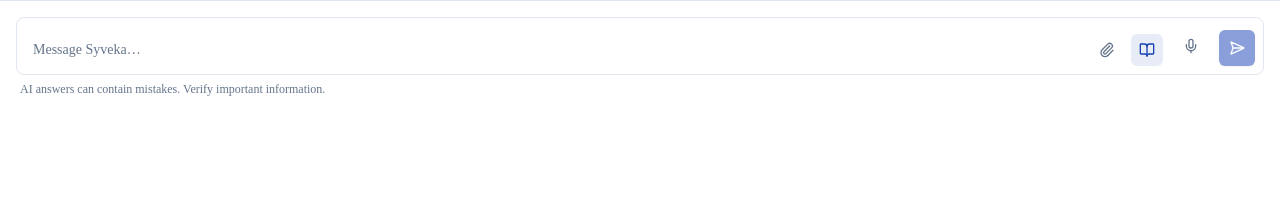
Scenario: Composer voice input › blocks Send (button and Enter) while recording, and Cancel keeps the draft
Type "typed draft" into the text box with placeholder "Message Syveka…". click: (554, 50)
box: [25, 34, 1083, 66]
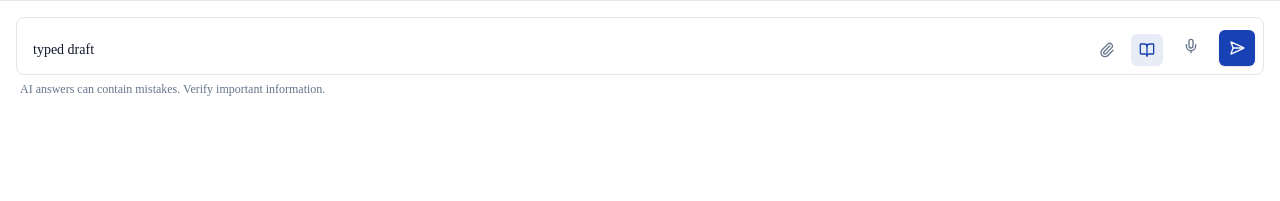
Click the button named "Record a voice message". click: (1191, 46)
box: [1171, 26, 1211, 66]
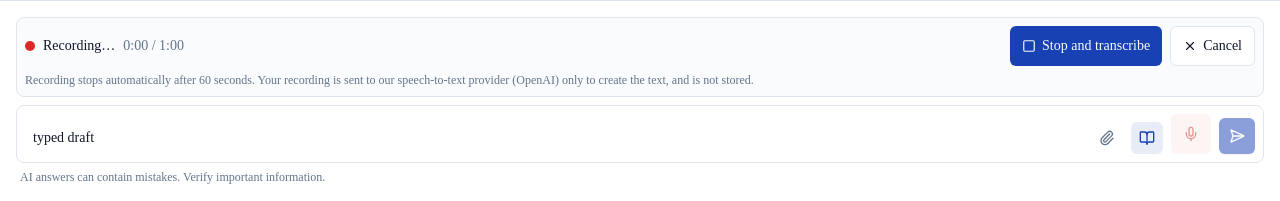
Check: the button named "Send message" is disabled, box [1219, 118, 1255, 154]
Press Enter in the text box with placeholder "Message Syveka…", box [25, 122, 1083, 154]
Click the button "Cancel". click: (1213, 46)
box: [1170, 26, 1255, 66]
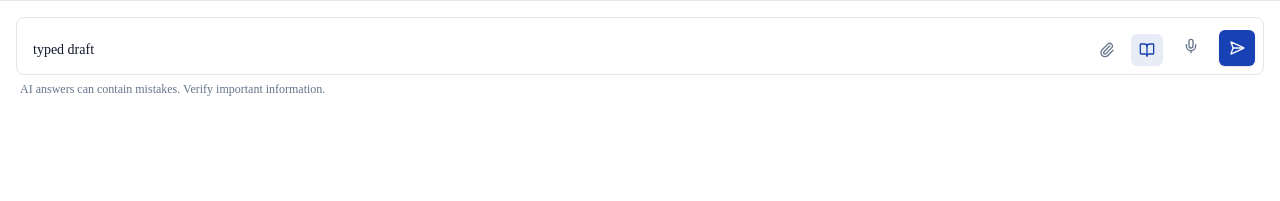
Check: the button named "Send message" is enabled, box [1219, 30, 1255, 66]
